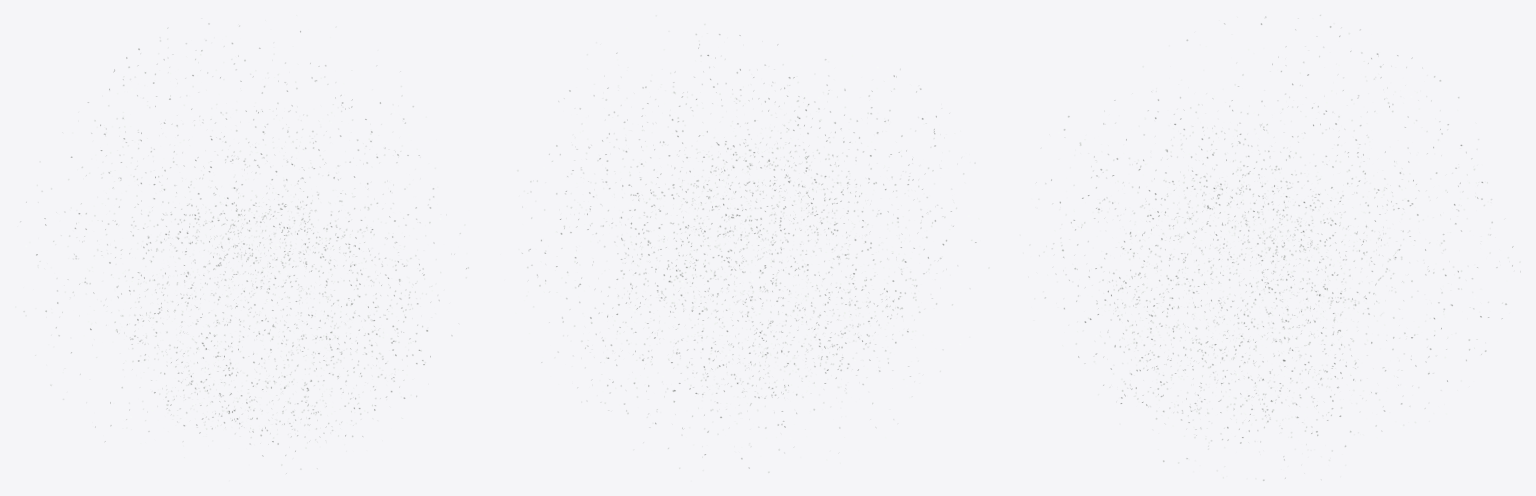
File: snowflake_ball.glb
3 views of the same model, side by side, from view 1: azimuth 30°, elevation 25°; view 2: azimuth 150°, elevation 25°; view 3: azimuth 270°, elevation 25° (orthographic). The views are drawn at different scales.
Parts seen in each view (by area): view 1: brush_Snow_g0_b0_0; view 2: brush_Snow_g0_b0_0; view 3: brush_Snow_g0_b0_0.
Part boxes in pixels (box(x1,y1,x2,y2)): brush_Snow_g0_b0_0: box(15, 15, 468, 473); brush_Snow_g0_b0_0: box(515, 15, 989, 472); brush_Snow_g0_b0_0: box(1020, 14, 1520, 480).
Bounding box in the file's own units: 24.79 × 23.23 × 26.29.
1 material, 1 textured.
